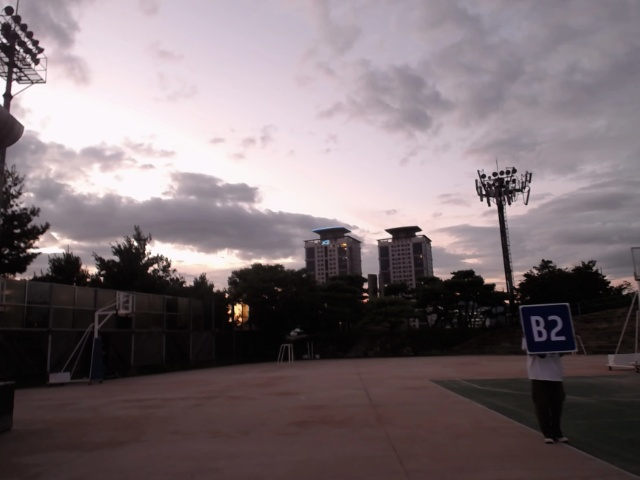delivery_b2: (520, 304, 579, 355)
